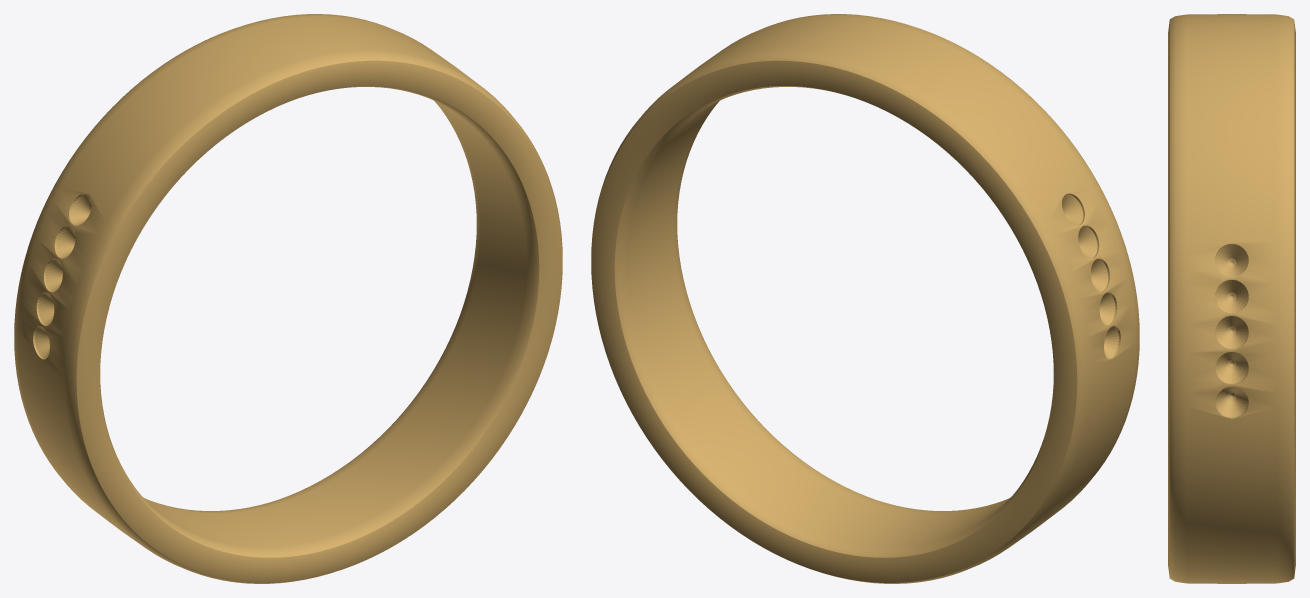
File: wide-micro-pave-wide.glb
3 renders of one model, left to right at view 1: azimuth 30°, elevation 25°; view 2: azimuth 150°, elevation 25°; view 3: azimuth 270°, elevation 25°, orthographic.
Visible parts, largest first — view 1: Band; view 2: Band; view 3: Band.
Boxes of the visible parts, bbox=[...] form: Band: bbox=[14, 14, 562, 583]; Band: bbox=[591, 14, 1139, 583]; Band: bbox=[1168, 14, 1295, 583].
Bounding box in the file's own units: 19.6 × 19.6 × 4.4.
